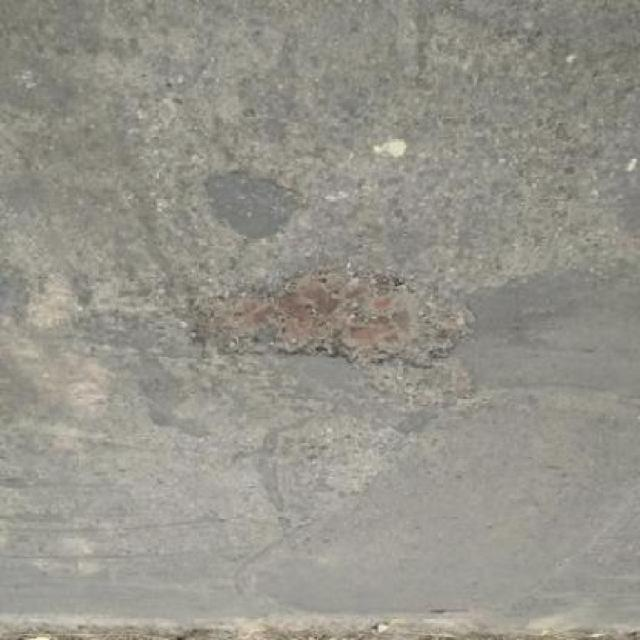pothole: (188, 262, 482, 370)
